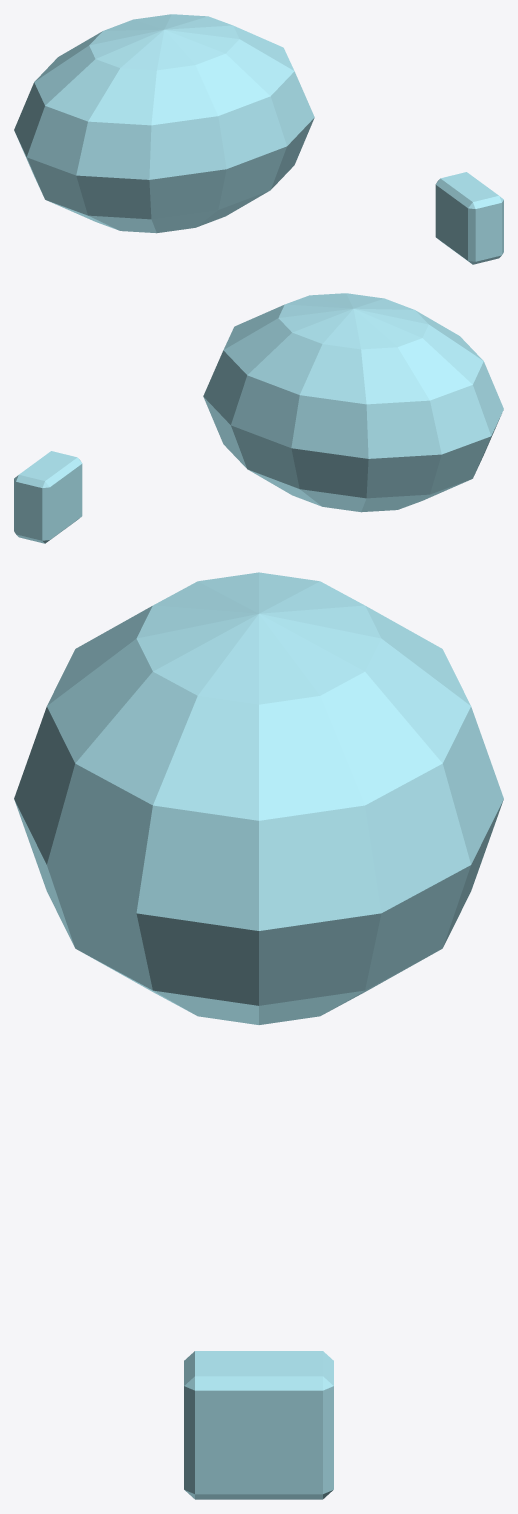
Rendered from pod_glass.glb.
3 renders of one model, top to bottom at view 1: azimuth 30°, elevation 25°; view 2: azimuth 150°, elevation 25°; view 3: azimuth 270°, elevation 25°, orthographic. The views are drawn at different scales.
Visible parts, largest first — view 1: Cockpit, Headlight; view 2: Cockpit, Headlight; view 3: Cockpit, Headlight.
Part boxes in pixels (bbox=[...]): Cockpit: bbox=[14, 14, 314, 233]; Headlight: bbox=[435, 172, 503, 264]; Cockpit: bbox=[203, 293, 503, 512]; Headlight: bbox=[14, 451, 82, 543]; Cockpit: bbox=[14, 572, 503, 1024]; Headlight: bbox=[184, 1351, 333, 1499].
Size of the model in its own units: 3.85 by 2.35 by 1.8.
